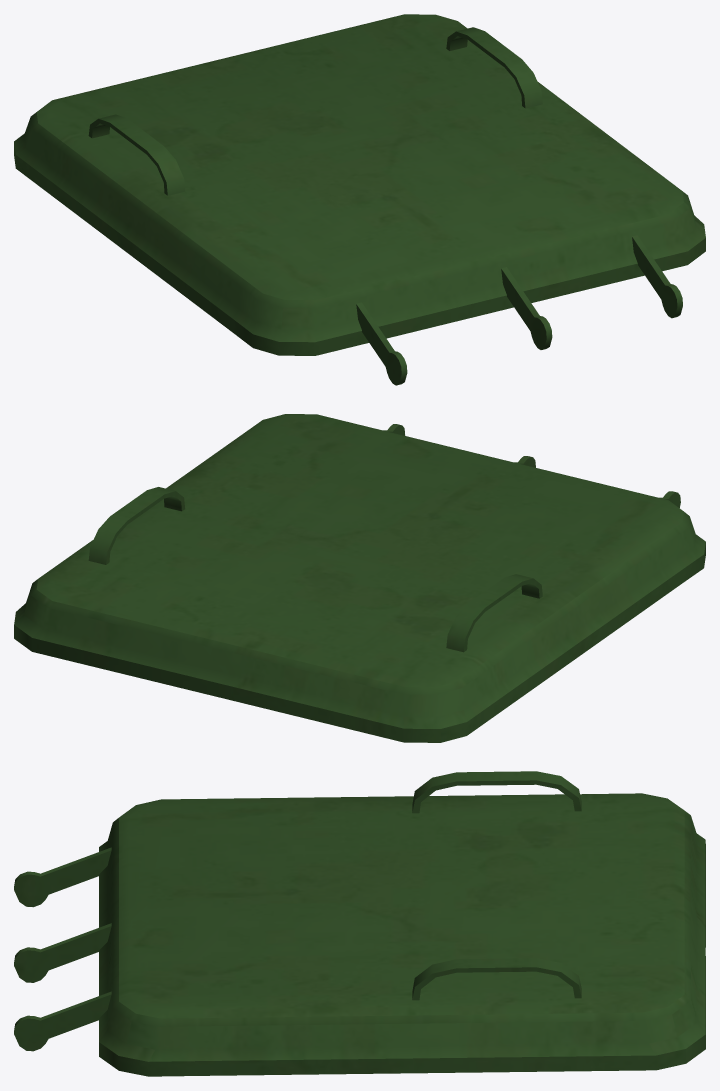
Rendered from Lid.fbx.
3 renders of one model, top to bottom at view 1: azimuth 30°, elevation 25°; view 2: azimuth 150°, elevation 25°; view 3: azimuth 270°, elevation 25°, orthographic. The views are drawn at different scales.
Visible parts, largest first — view 1: Lid; view 2: Lid; view 3: Lid.
Boxes of the visible parts, bbox=[...] form: Lid: bbox=[14, 14, 705, 385]; Lid: bbox=[14, 414, 705, 742]; Lid: bbox=[14, 771, 705, 1076].
Size of the model in its own units: 52.8 by 11.27 by 65.5.
1 material, 1 textured.
